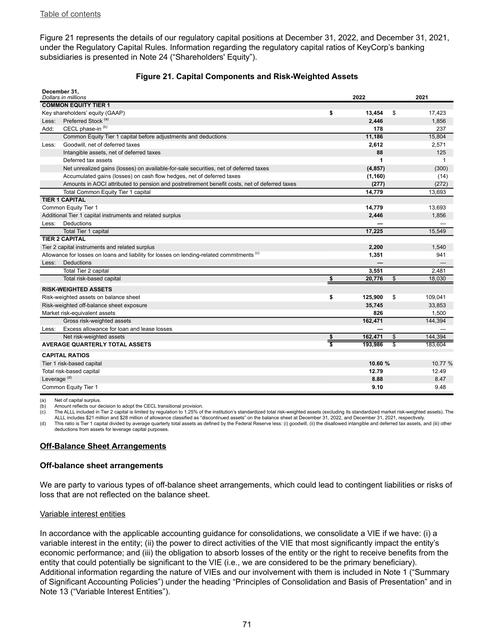box: (38, 86, 455, 398)
